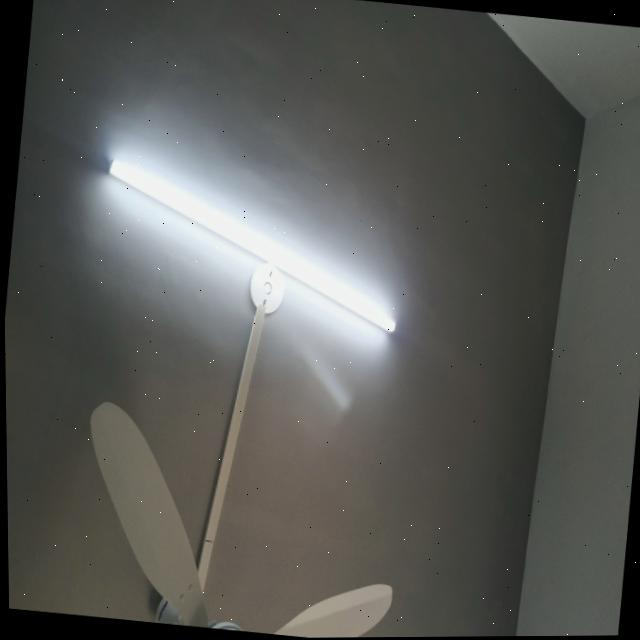light_on: (86, 150, 413, 344)
